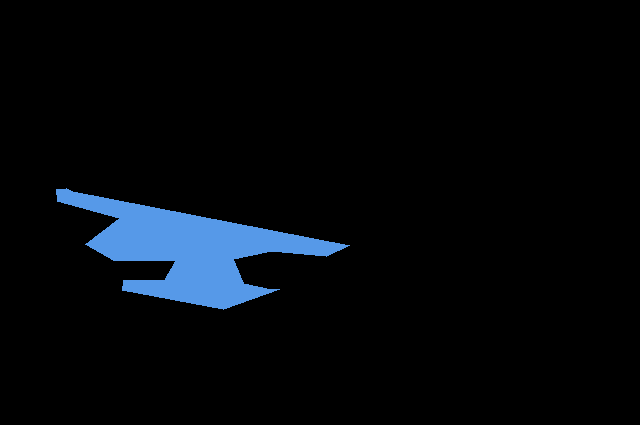Airplane: (56, 188, 350, 310)
